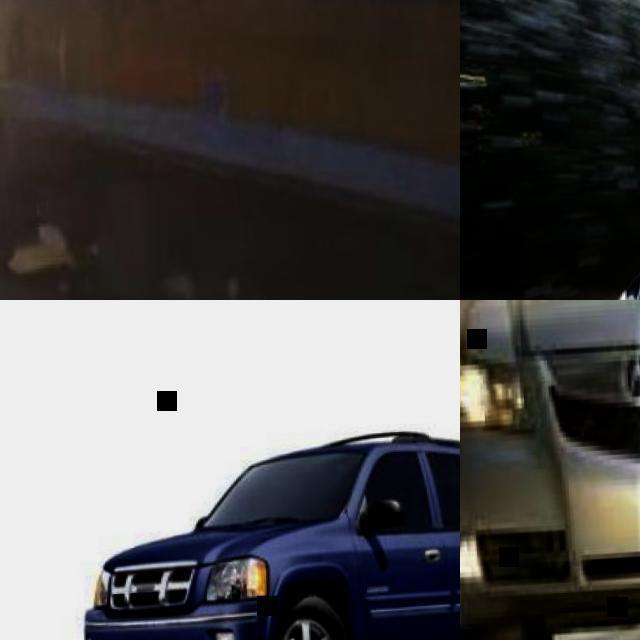car: (91, 423, 462, 639)
